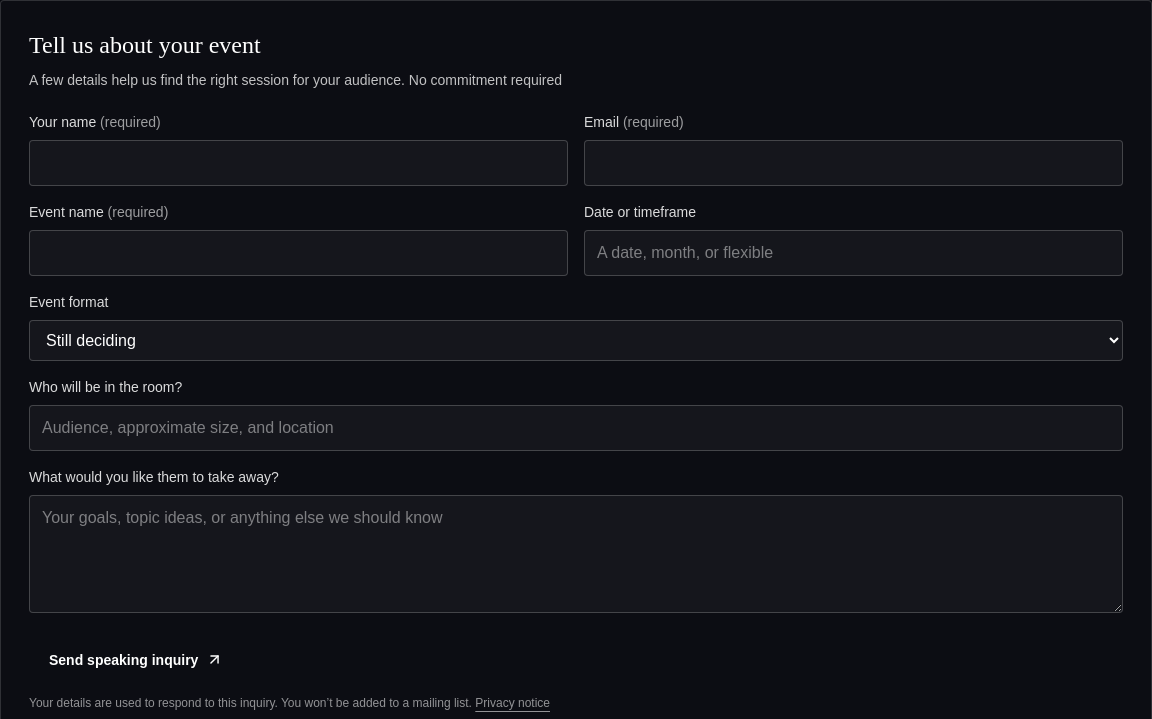
Scenario: speaking inquiry capture › keeps inputs and the request identity after an uncertain submission
Type "Alex Lee" into the field labelled "Your name (required)" at (298, 163), box [29,140,568,186]
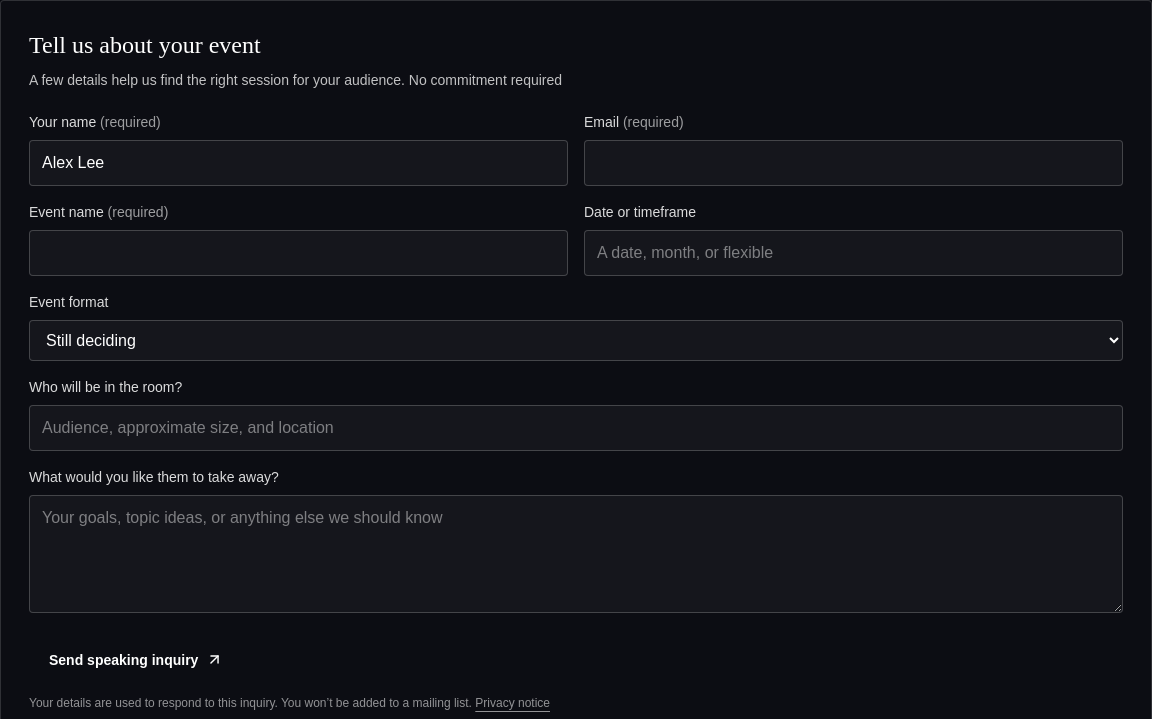
Type "alex@example.com" into the field labelled "Email (required)" at (854, 163), box [584,140,1123,186]
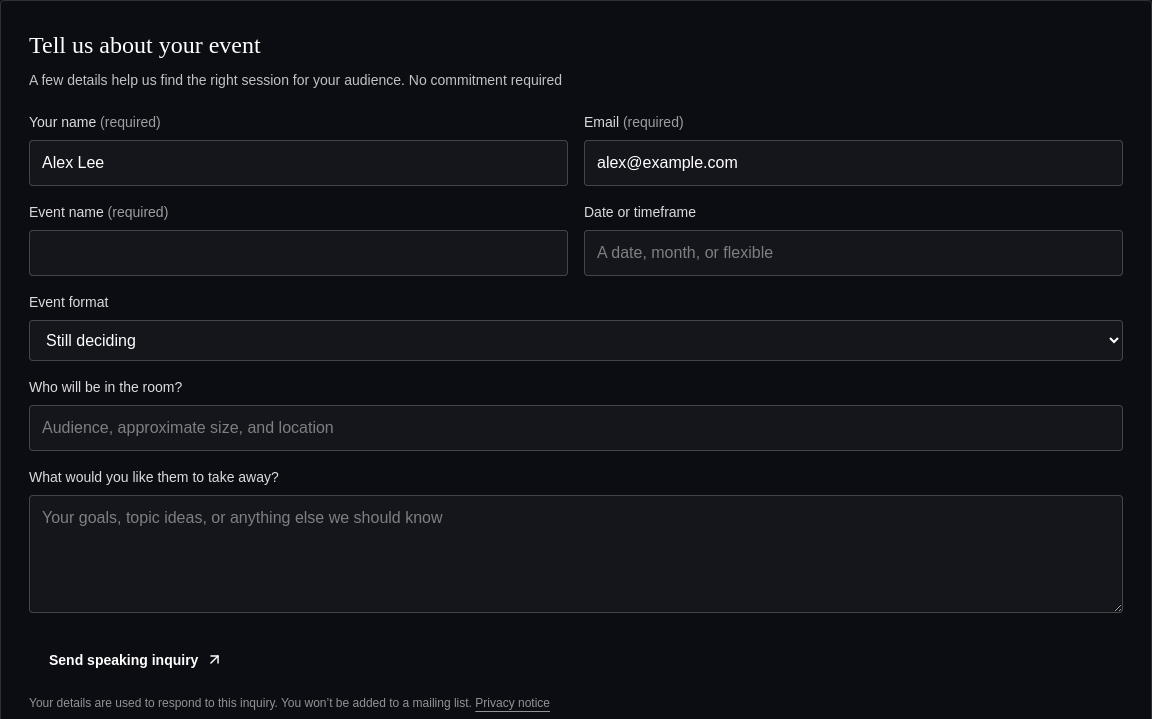
Type "Business & AI" into the field labelled "Event name (required)" at (298, 253), box [29,230,568,276]
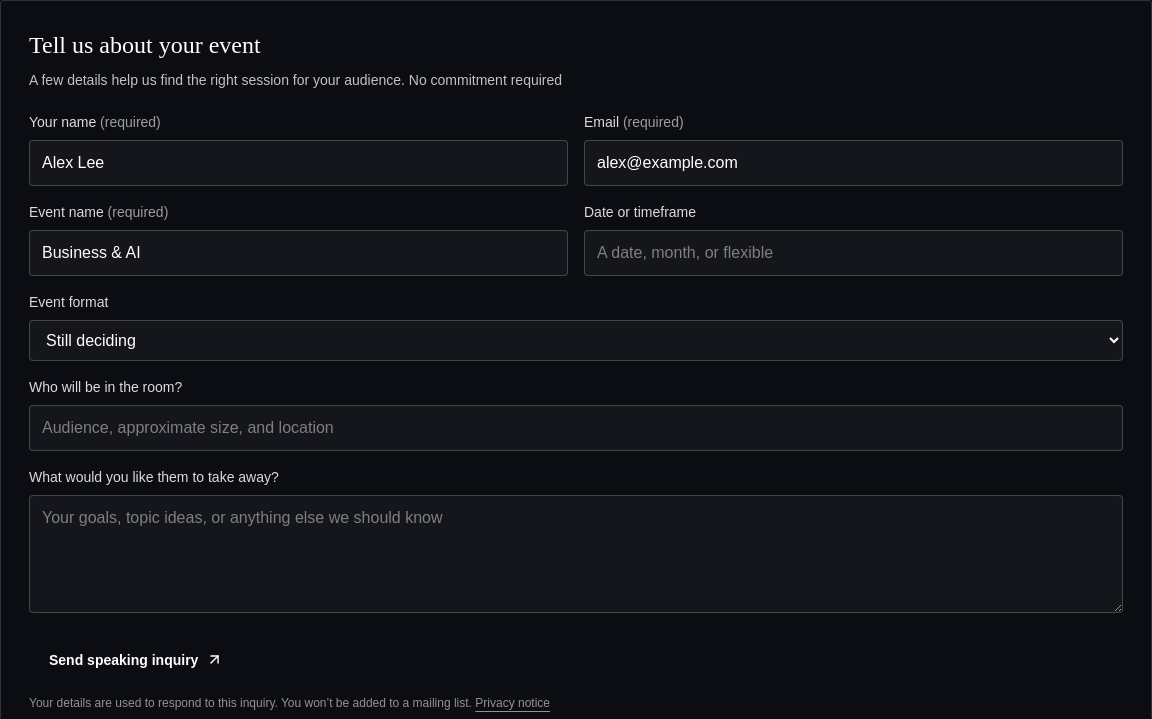
Submit the form
(page scrolled)
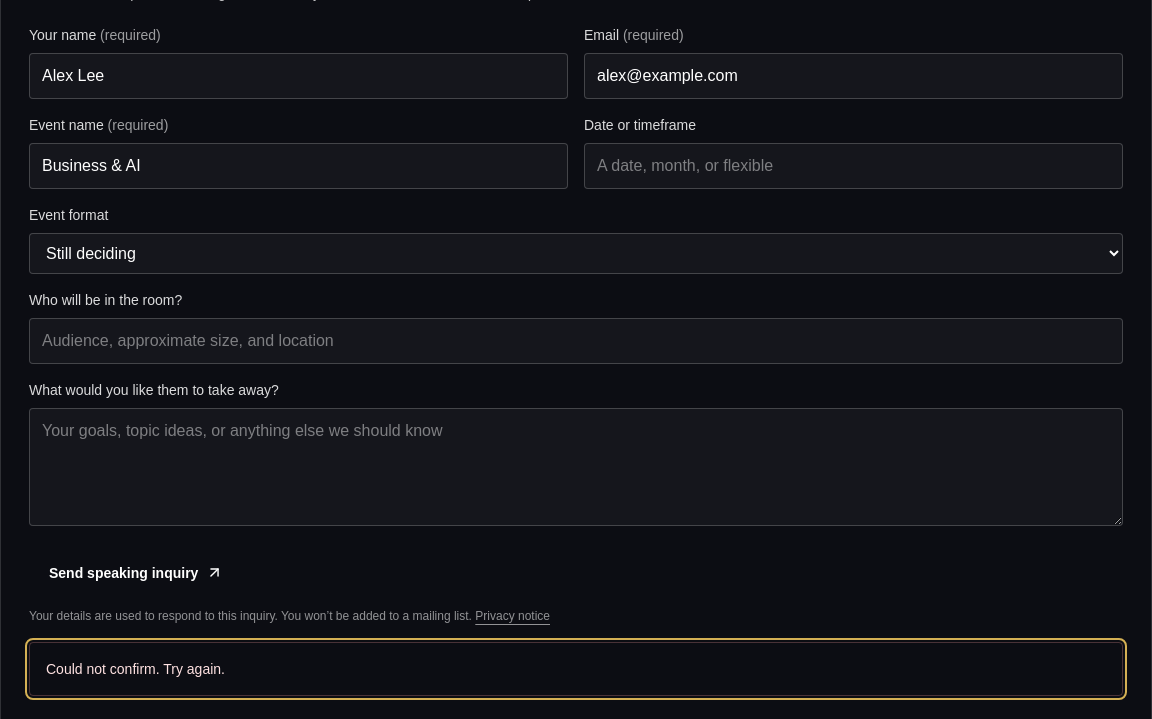
Expected: the button "Send speaking inquiry" is enabled, [29,551,243,595]
Result: the message shows "Could not confirm" at [46,661,225,677]
Submit the form
(page scrolled)
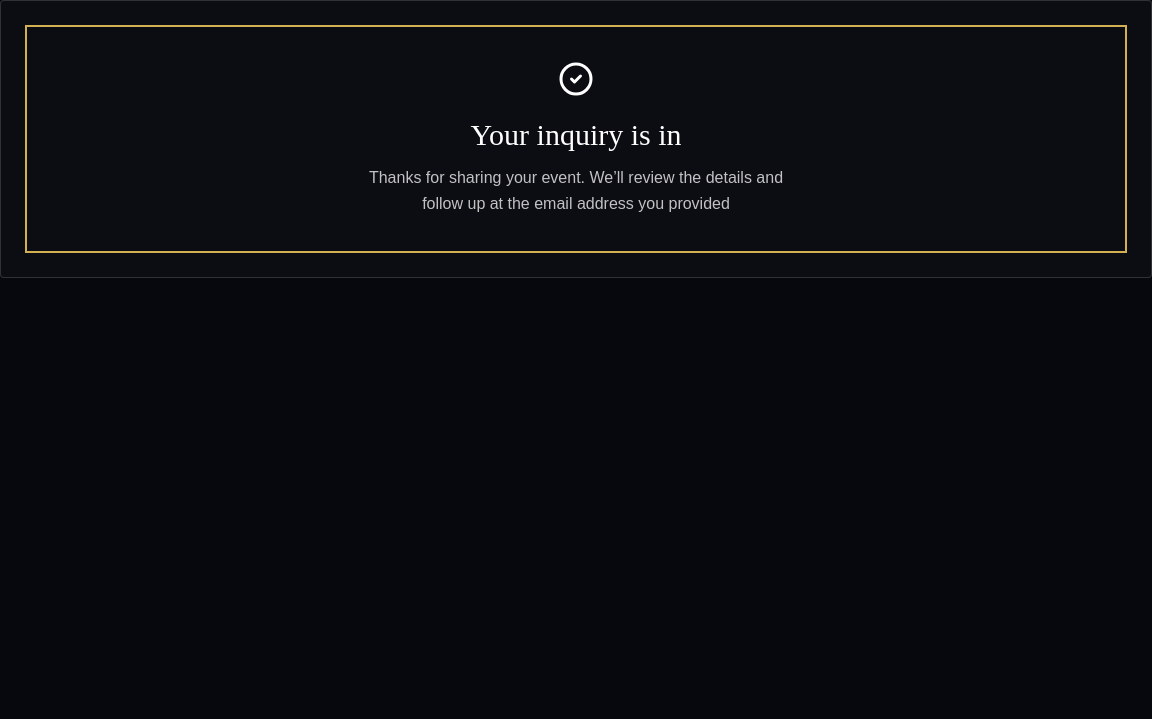
Result: the heading "Your inquiry is in" is shown at [470,118,682,151]
